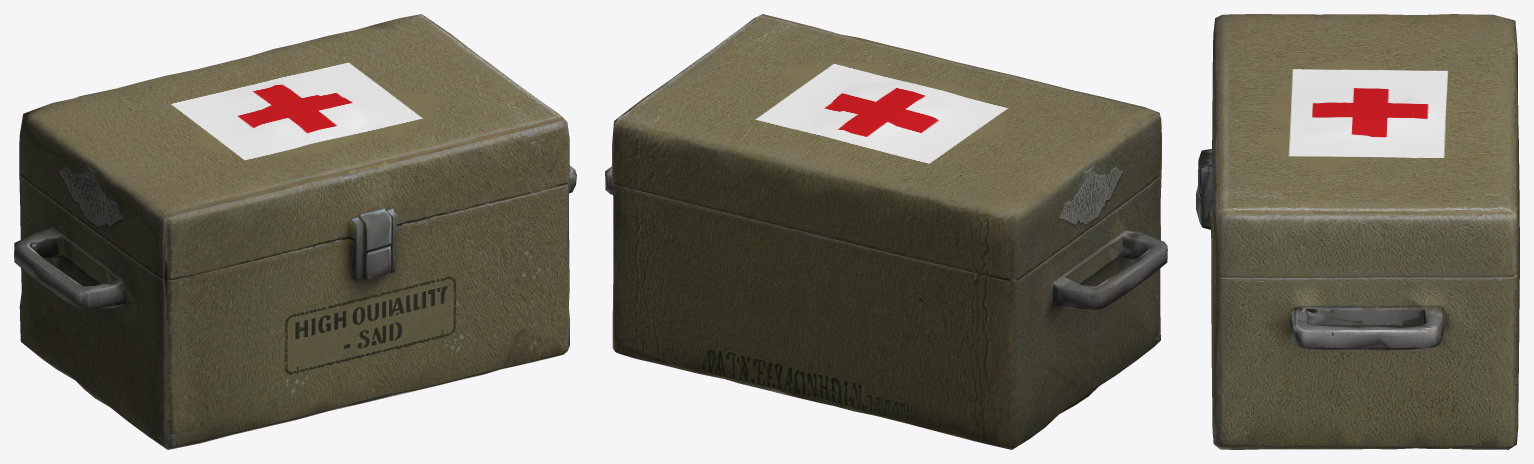
File: Field Medical Kit.fbx
The picture shows the model from 3 angles, left to right: view 1: azimuth 30°, elevation 25°; view 2: azimuth 150°, elevation 25°; view 3: azimuth 270°, elevation 25°; orthographic projection.
Visible parts, largest first — view 1: texture_mapping; view 2: texture_mapping; view 3: texture_mapping.
Part boxes in pixels (<box>): texture_mapping: <box>14,14,576,449</box>; texture_mapping: <box>605,14,1167,449</box>; texture_mapping: <box>1196,14,1519,449</box>.
Bounding box in the file's own units: 1 × 0.5489 × 0.4586.
1 material, 1 textured.
